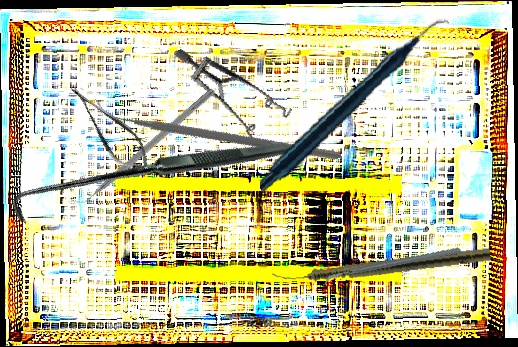Chopper: (95, 21, 342, 235), (66, 80, 217, 213), (321, 220, 462, 313)
Handpiece: (242, 16, 467, 195), (269, 244, 493, 289)
Hook Surgical: (6, 40, 295, 322)
Micro Scissor: (60, 75, 160, 183)
Speculum: (173, 21, 301, 166)
